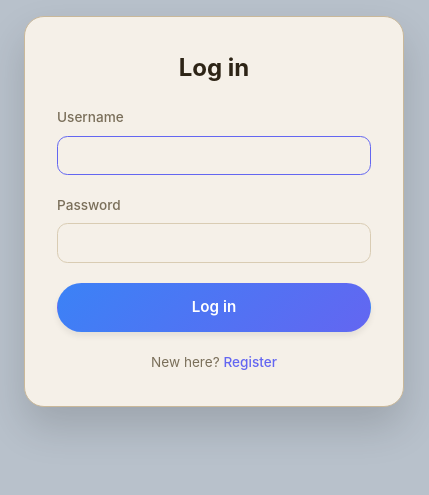
Test: AuthForm › login mode › displays API error on failure
Type "myuser" into the field labelled "Username". click: (214, 155)
box: [57, 136, 371, 175]
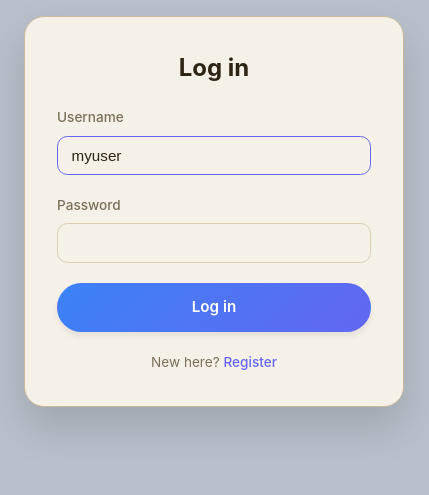
Type "password123" into the password field labelled "Password". click: (214, 243)
box: [57, 224, 371, 263]
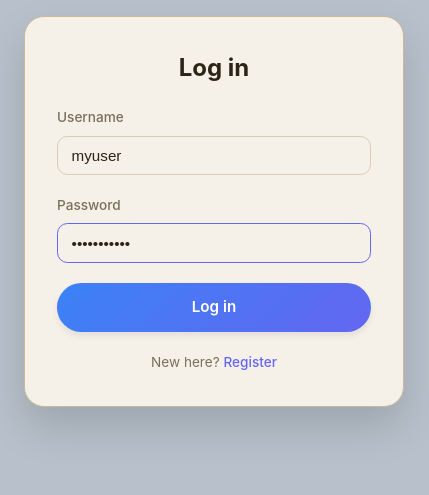
Click the button "Log in". click: click(214, 308)
box: [57, 283, 371, 332]
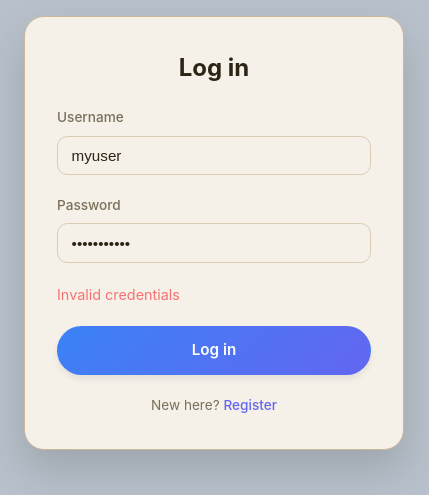
Expected: the text "Invalid credentials" is shown, [57, 286, 180, 303]
